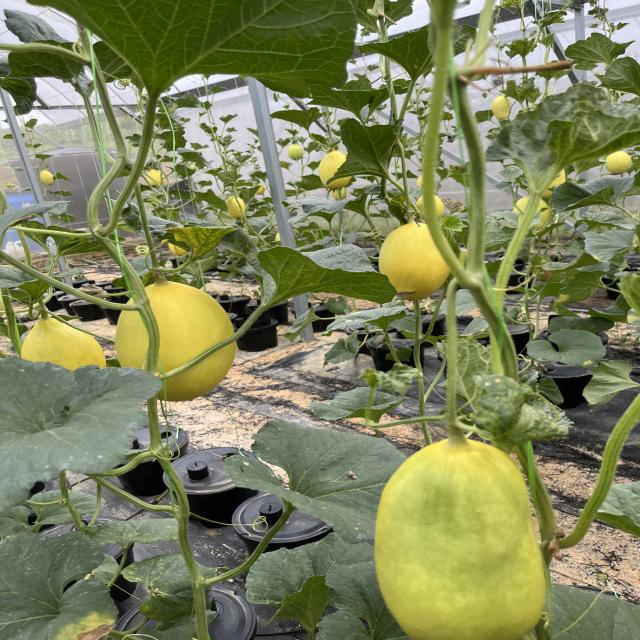alternaria leaf blight: (161, 224, 238, 256), (578, 226, 638, 262), (441, 320, 495, 346)
downy mildew: (237, 416, 427, 549), (0, 532, 121, 638), (257, 243, 399, 308), (115, 550, 222, 628), (525, 577, 640, 640), (50, 514, 208, 553), (306, 380, 411, 424), (585, 475, 640, 540), (0, 265, 83, 305)
healthy: (24, 0, 362, 105), (242, 536, 374, 633), (498, 95, 640, 178), (324, 121, 406, 182), (551, 175, 640, 213), (575, 359, 638, 407), (448, 218, 526, 255), (526, 329, 606, 365), (564, 34, 634, 70), (552, 268, 616, 302), (596, 59, 640, 93)
powdery mildew: (0, 358, 175, 513)
